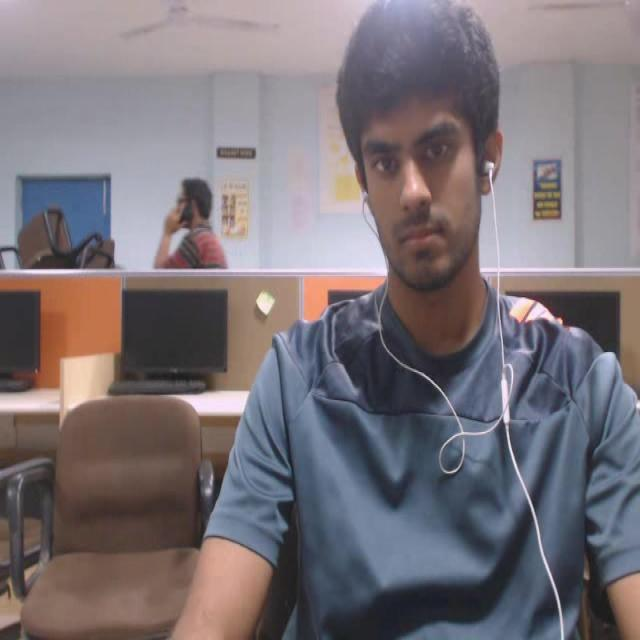Engaged: (318, 0, 506, 316)
